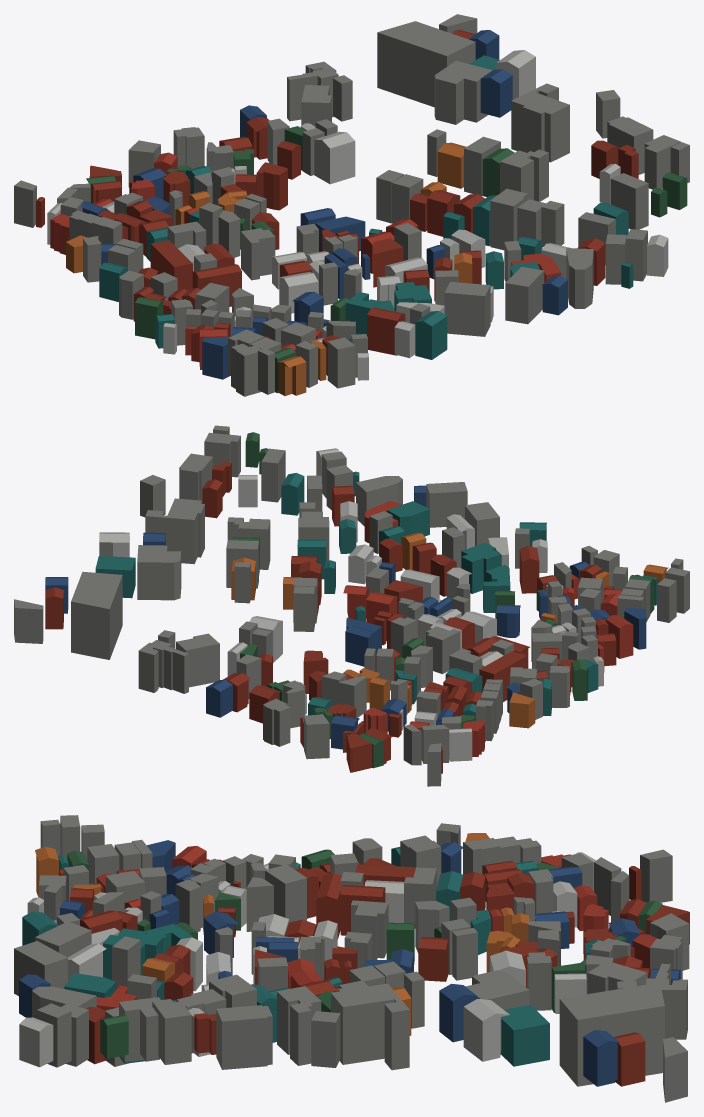
Rendered from near-17-109441-59478.b753bafa.glb.
3 views of the same model, one above another, from view 1: azimuth 30°, elevation 25°; view 2: azimuth 150°, elevation 25°; view 3: azimuth 270°, elevation 25° (orthographic). The views are drawn at different scales.
Bounding box in the file's own units: 305 × 77.89 × 305.
